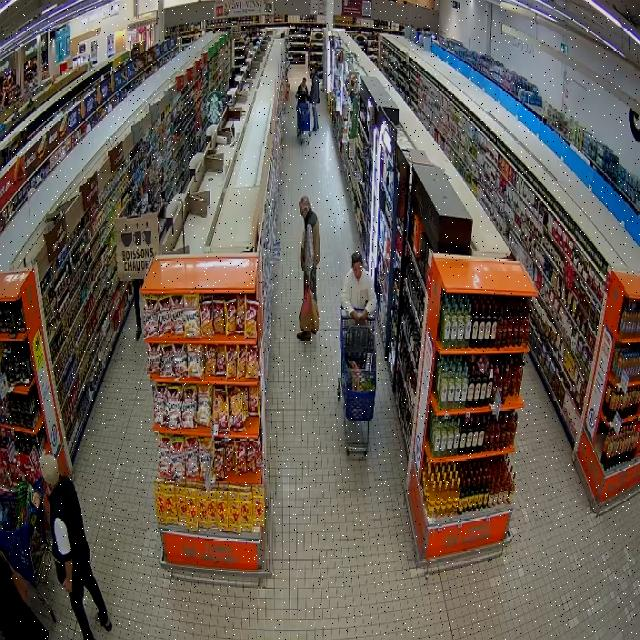bags: (0, 553, 44, 611), (300, 284, 319, 333)
hands: (63, 575, 72, 592), (350, 310, 359, 321), (360, 309, 368, 321), (306, 276, 313, 289)
person: (40, 455, 111, 639), (0, 552, 49, 639), (341, 252, 377, 321), (300, 196, 319, 301), (310, 67, 319, 131), (296, 78, 309, 103)
